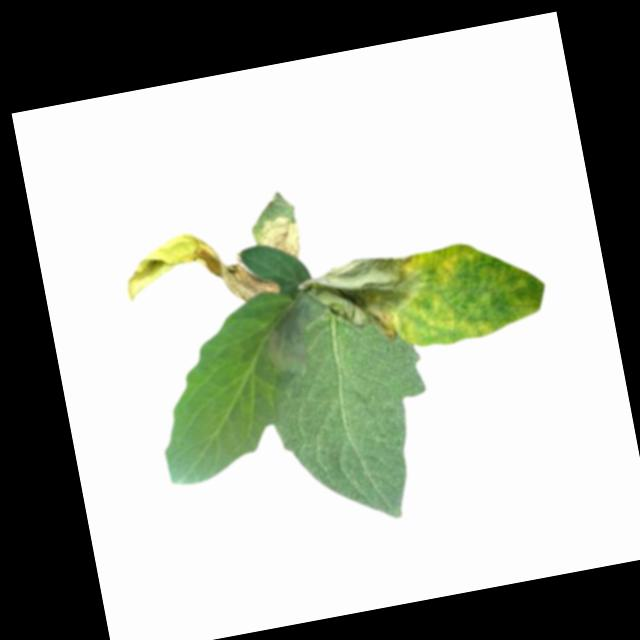Late_blight: (114, 218, 280, 325), (298, 249, 427, 353), (251, 287, 338, 383), (253, 212, 304, 268)
